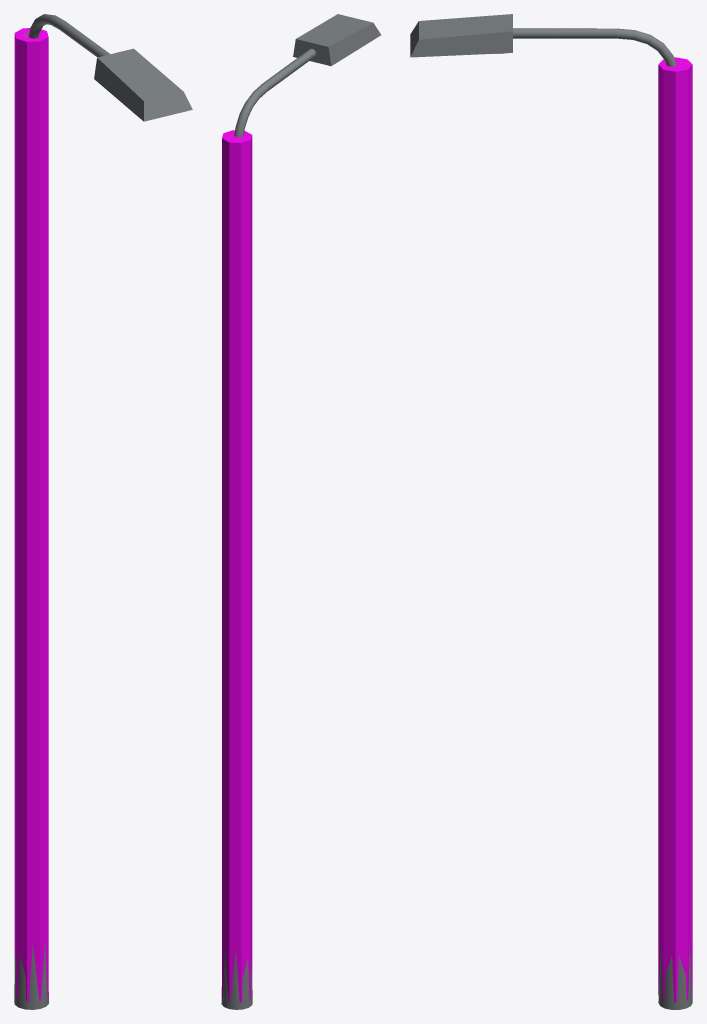
Rendered from EN_Yard_Lamp.fbx.
The picture shows the model from 3 angles, left to right: view 1: azimuth 30°, elevation 25°; view 2: azimuth 150°, elevation 25°; view 3: azimuth 270°, elevation 25°; orthographic projection. The views are drawn at different scales.
Parts seen in each view (by area): view 1: COL_Pole, Lamp_Head, EN_Yard_Lamp_Pole; view 2: COL_Pole, Lamp_Head, EN_Yard_Lamp_Pole; view 3: COL_Pole, Lamp_Head, EN_Yard_Lamp_Pole.
Part boxes in pixels (left/top/right/bottom): COL_Pole: left=14, top=28, right=48, bottom=1001; Lamp_Head: left=94, top=48, right=192, bottom=121; EN_Yard_Lamp_Pole: left=14, top=14, right=110, bottom=1009; COL_Pole: left=222, top=130, right=252, bottom=1002; Lamp_Head: left=293, top=14, right=380, bottom=66; EN_Yard_Lamp_Pole: left=221, top=48, right=315, bottom=1009; COL_Pole: left=658, top=57, right=692, bottom=1002; Lamp_Head: left=410, top=14, right=512, bottom=57; EN_Yard_Lamp_Pole: left=513, top=28, right=692, bottom=1009.
Size of the model in its own units: 0.32 by 6.32 by 1.65.
